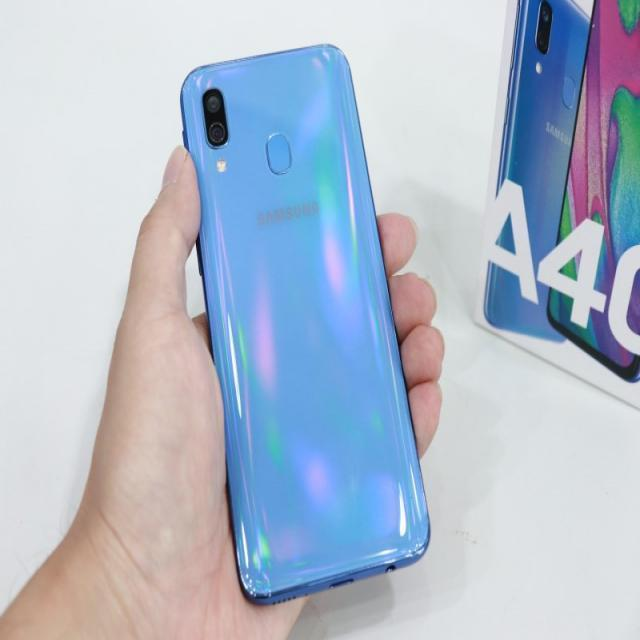phone: (178, 40, 436, 608)
